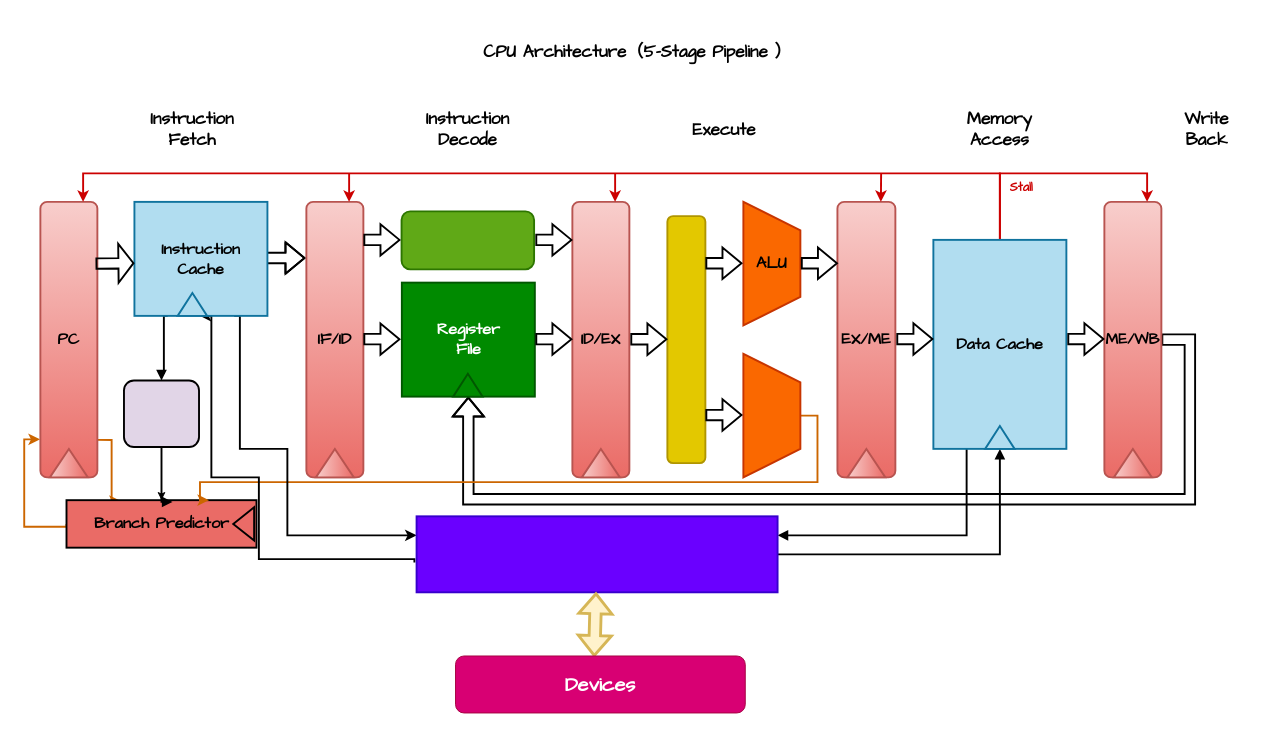
Image size: 1270x730. Some labels were removed from this diagram. Each missing label, with the centre of its shape:
"BRU" belongs at (x=771, y=415).
"Control Immediate Gen" belongs at (x=467, y=240).
"Memory" belongs at (x=596, y=554).
"MUX" belongs at (x=686, y=339).
"Pre Decoder" belongs at (x=161, y=413).
